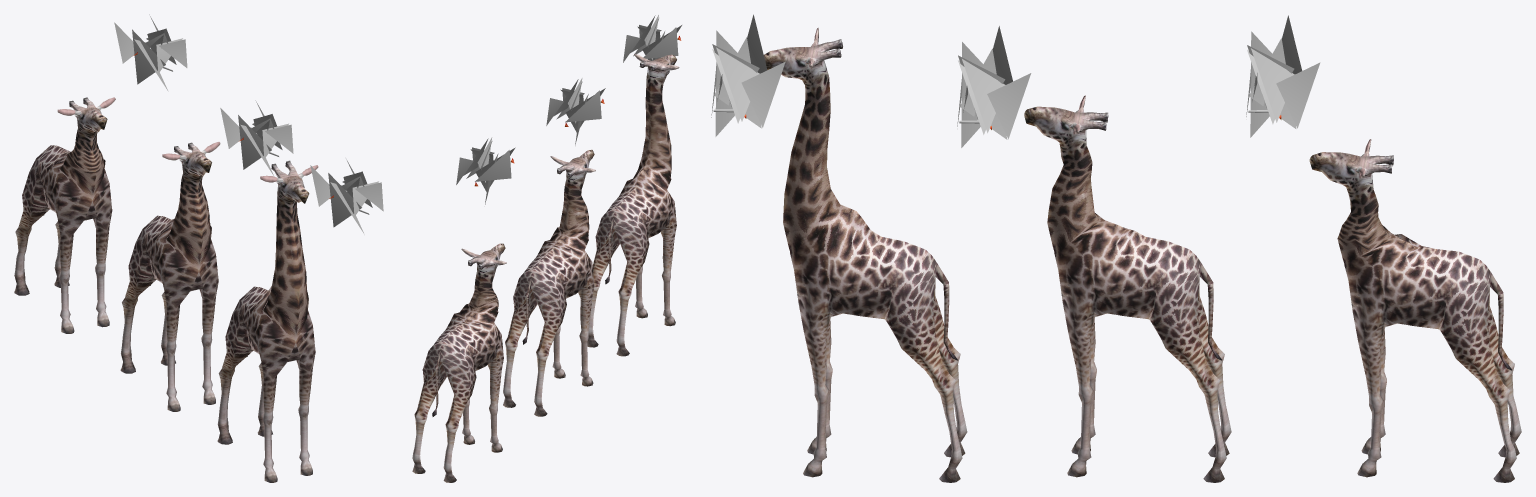
Rendered from giraf_3.fbx.
3 views of the same model, side by side, from view 1: azimuth 30°, elevation 25°; view 2: azimuth 150°, elevation 25°; view 3: azimuth 270°, elevation 25° (orthographic). The views are drawn at different scales.
Parts seen in each view (by area): view 1: Plane, Plane1, Plane2, tree3; view 2: Plane, Plane1, Plane2, tree3; view 3: Plane, Plane1, Plane2, tree3.
Part boxes in pixels (left/top/right/bottom): Plane: left=217, top=160, right=318, bottom=482; Plane1: left=120, top=142, right=220, bottom=411; Plane2: left=14, top=97, right=115, bottom=333; tree3: left=114, top=14, right=383, bottom=234; Plane: left=587, top=53, right=679, bottom=356; Plane1: left=503, top=149, right=595, bottom=416; Plane2: left=412, top=243, right=506, bottom=482; tree3: left=456, top=15, right=681, bottom=204; Plane: left=764, top=27, right=967, bottom=482; Plane1: left=1024, top=95, right=1231, bottom=482; Plane2: left=1309, top=139, right=1521, bottom=482; tree3: left=711, top=14, right=1320, bottom=147.
Bounding box in the file's own units: 152 × 547 × 898.
